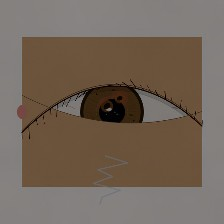foreign_body_visible: (42, 117, 86, 153)
